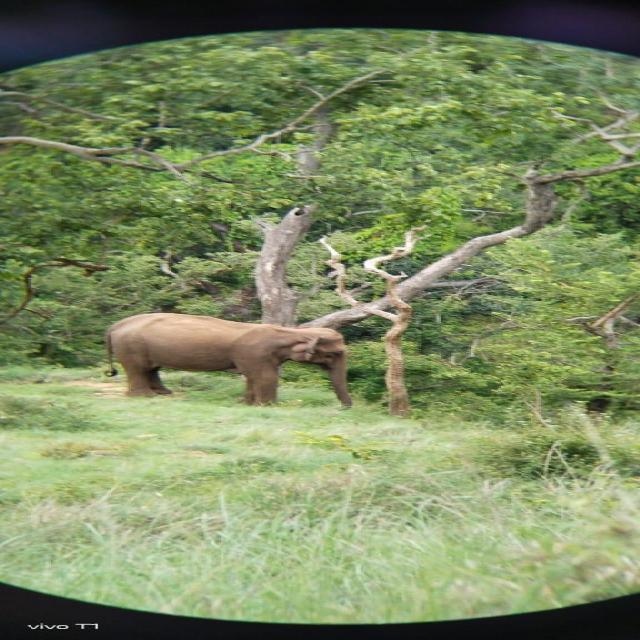Elephant: (101, 310, 360, 410)
